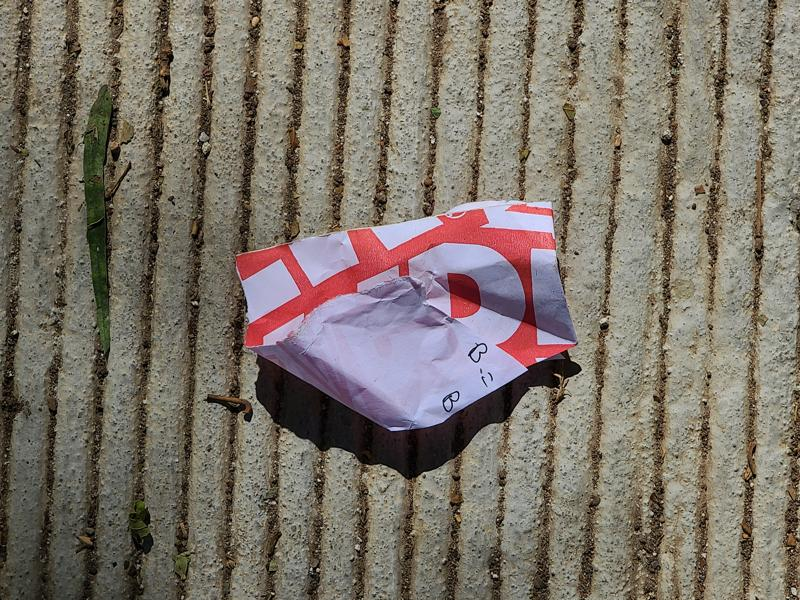papel: (235, 200, 578, 477)
